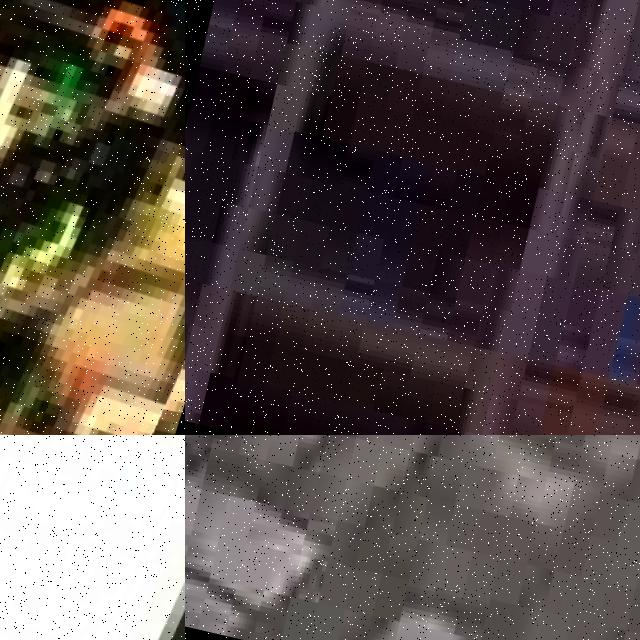drone: (0, 0, 185, 435), (0, 435, 185, 640)
